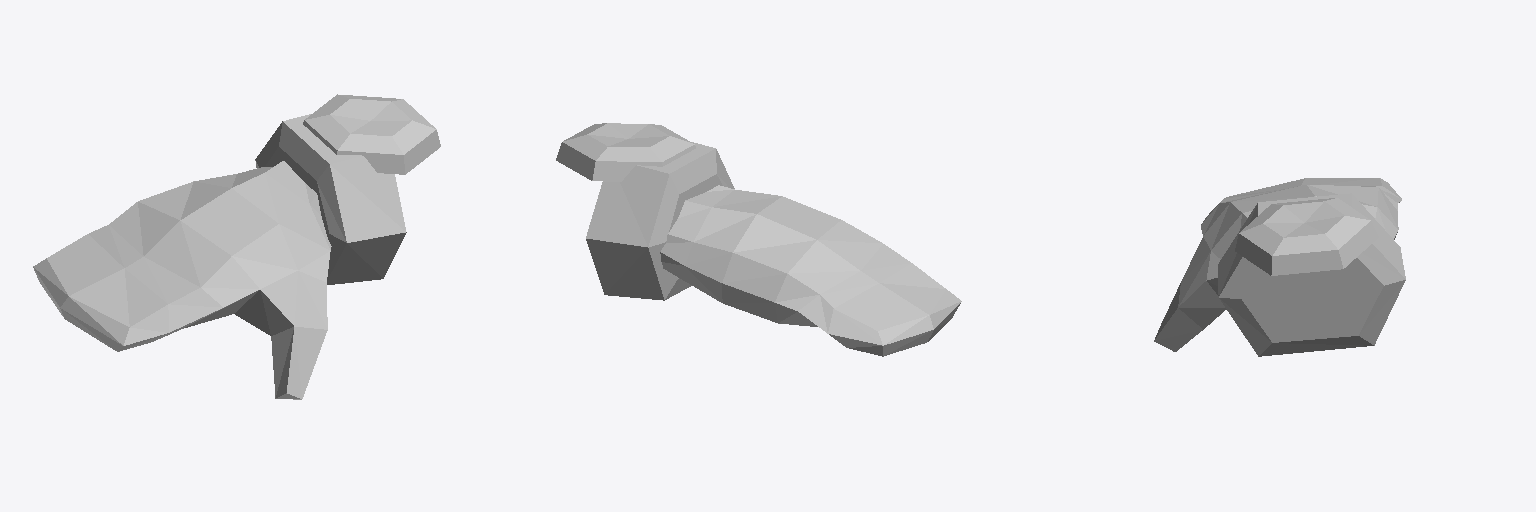
Rendered from kei righthand.obj.
3 views of the same model, side by side, from view 1: azimuth 30°, elevation 25°; view 2: azimuth 150°, elevation 25°; view 3: azimuth 270°, elevation 25° (orthographic).
Visible parts, largest first — view 1: model459.011, model459.010; view 2: model459.011, model459.010; view 3: model459.010, model459.011.
Part boxes in pixels (bbox=[...]): model459.011: bbox=[33, 161, 331, 399]; model459.010: bbox=[255, 94, 440, 284]; model459.011: bbox=[660, 185, 961, 356]; model459.010: bbox=[556, 123, 734, 300]; model459.010: bbox=[1218, 193, 1405, 356]; model459.011: bbox=[1154, 178, 1401, 351].
Bounding box in the file's own units: 2.96 × 1.6 × 1.79.